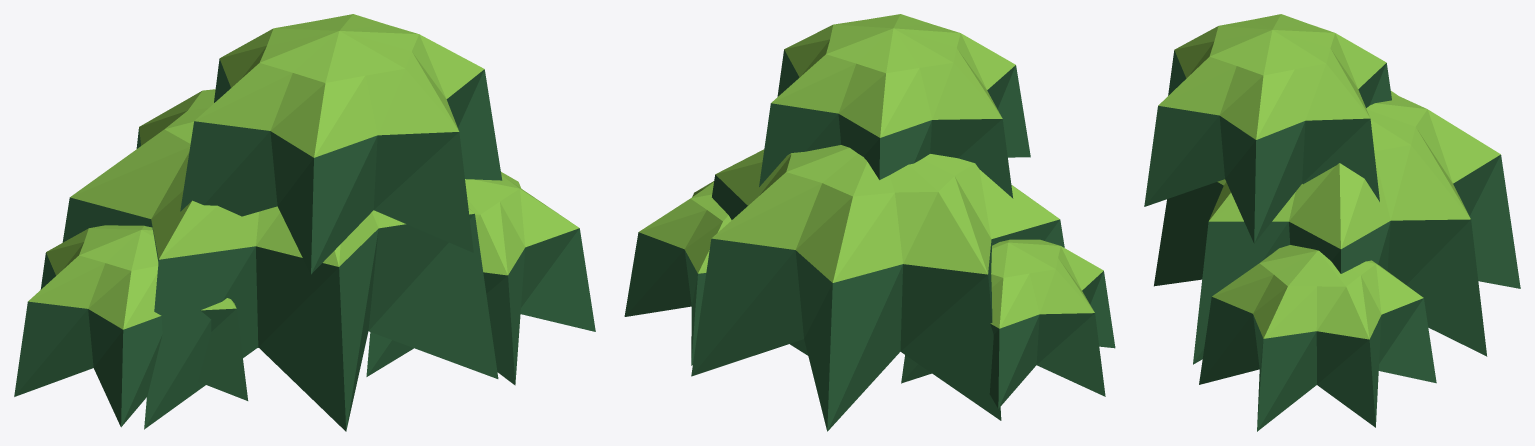
The model's file is tree_crown_b.glb.
The picture shows the model from 3 angles, left to right: view 1: azimuth 30°, elevation 25°; view 2: azimuth 150°, elevation 25°; view 3: azimuth 270°, elevation 25°; orthographic projection. The views are drawn at different scales.
Parts seen in each view (by area): view 1: leaf_shade, leaf_lit; view 2: leaf_shade, leaf_lit; view 3: leaf_shade, leaf_lit.
Boxes of the visible parts, bbox=[...] form: leaf_shade: bbox=[14, 59, 595, 431]; leaf_lit: bbox=[28, 14, 579, 329]; leaf_shade: bbox=[624, 49, 1115, 431]; leaf_lit: bbox=[639, 14, 1103, 328]; leaf_shade: bbox=[1144, 50, 1520, 431]; leaf_lit: bbox=[1158, 14, 1500, 339].
Bounding box in the file's own units: 5.17 × 3.29 × 3.73.
